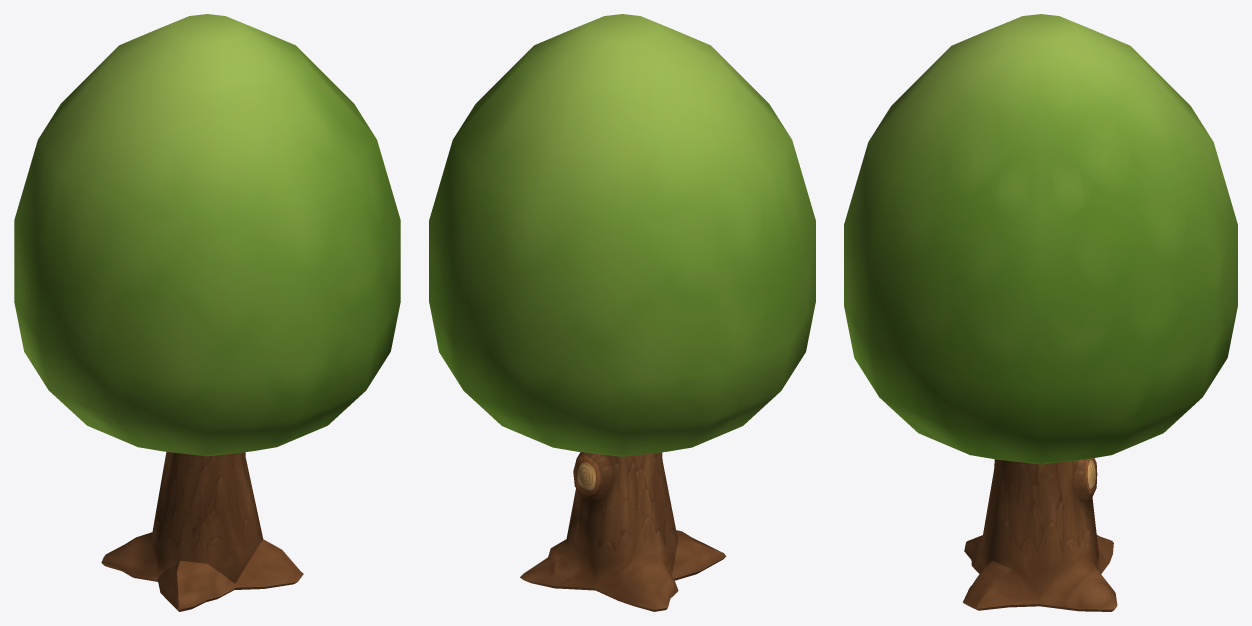
File: tree.FBX
3 views of the same model, side by side, from view 1: azimuth 30°, elevation 25°; view 2: azimuth 150°, elevation 25°; view 3: azimuth 270°, elevation 25° (orthographic).
Parts seen in each view (by area): view 1: tree; view 2: tree; view 3: tree.
Part boxes in pixels (bbox=[...]): tree: bbox=[14, 14, 400, 611]; tree: bbox=[429, 14, 815, 611]; tree: bbox=[844, 14, 1237, 611].
Bounding box in the file's own units: 36.52 × 56.43 × 36.52.
